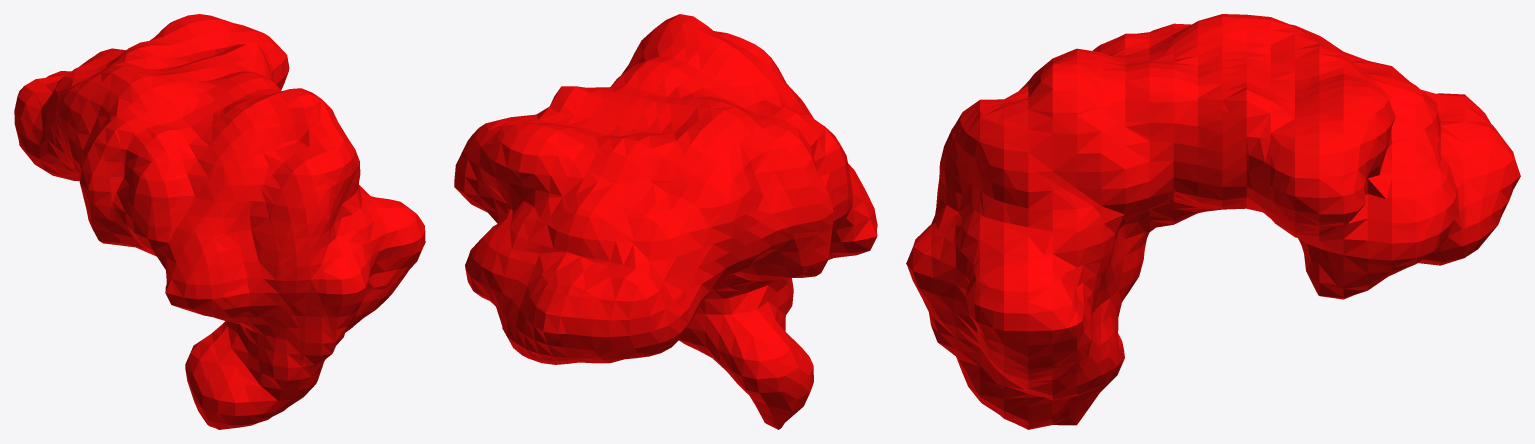
File: ftsX_coarse.dae
The picture shows the model from 3 angles, left to right: view 1: azimuth 30°, elevation 25°; view 2: azimuth 150°, elevation 25°; view 3: azimuth 270°, elevation 25°; orthographic projection. The views are drawn at different scales.
Visible parts, largest first — view 1: ftsX; view 2: ftsX; view 3: ftsX.
Boxes of the visible parts, x1,y1,x2,y2 form: ftsX: (14,14,425,429); ftsX: (454,14,877,429); ftsX: (906,14,1520,429).
Bounding box in the file's own units: 54.58 × 60.95 × 83.21.
